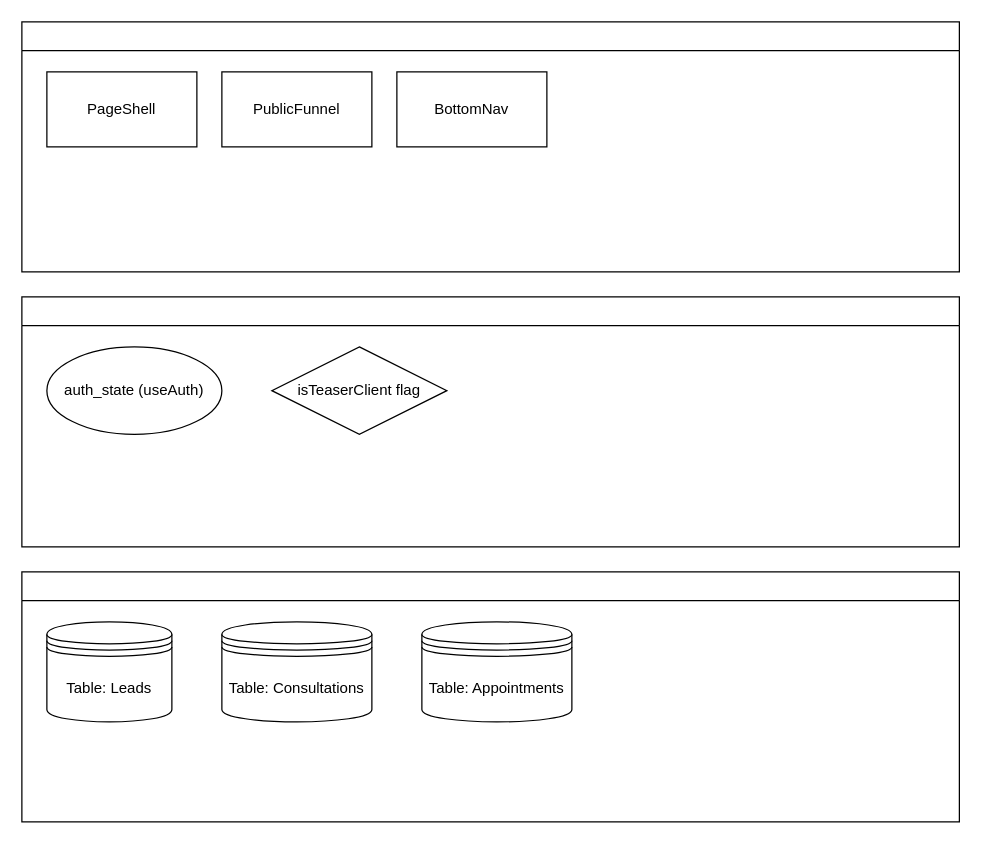
Some shapes in this 981 by 844 pixel diagram are drawn without their labels. The box of each missing label's shape, as (x1, y1, x2, y2) in pixels:
DATA/API LAYER: (21, 571, 959, 822)
STATE LAYER: (21, 296, 959, 547)
UI LAYER (SSOT Components): (21, 21, 959, 272)
